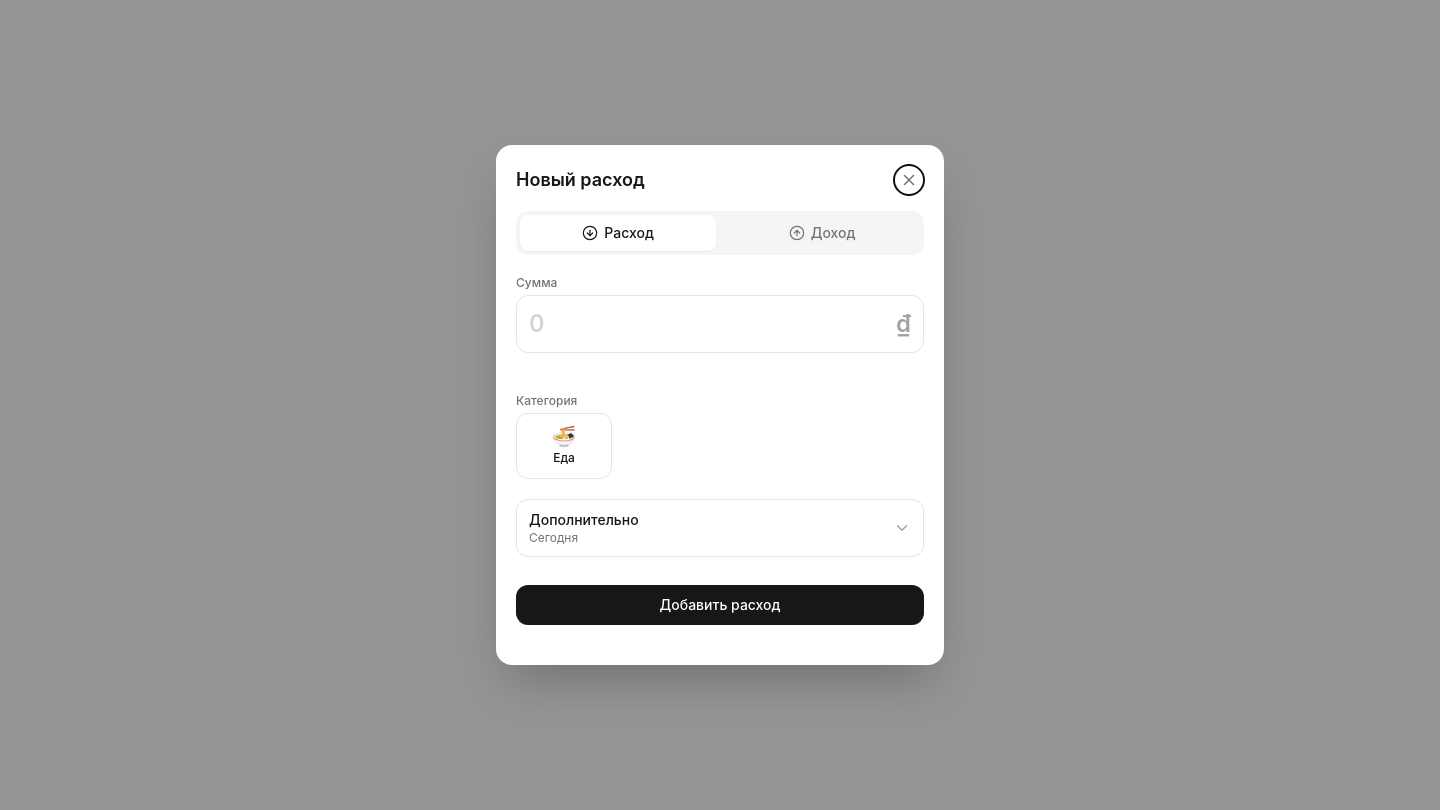
Test: TransactionFormSheet › keeps date, note and 'repeat monthly' under a collapsed 'Дополнительно' with a summary
Click the button "Дополнительно Сегодня" at (584, 520), box top-left (517, 500), bottom-right (923, 556)
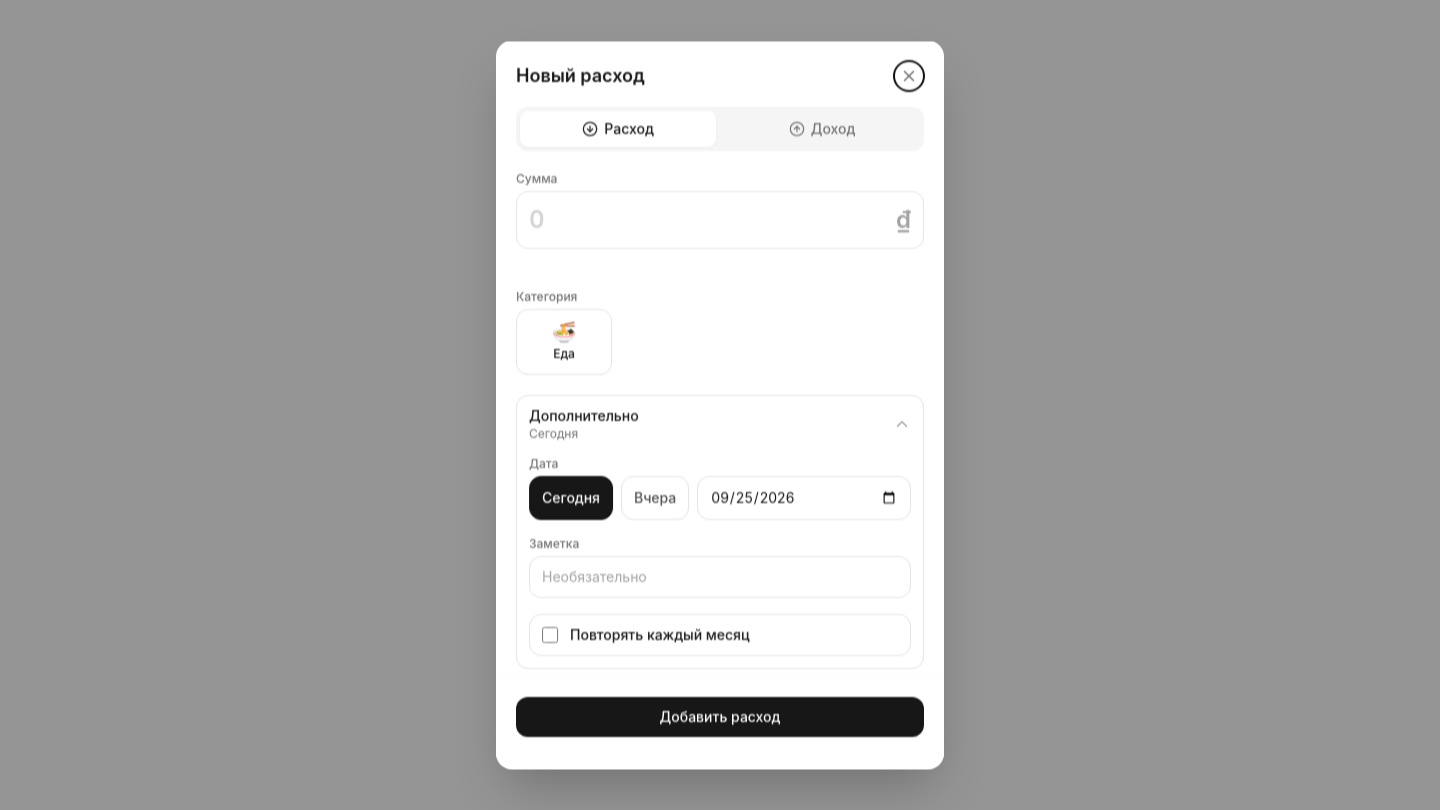
Check: the button "Дополнительно Сегодня" is expanded, box top-left (517, 396), bottom-right (923, 452)
Click the button "Вчера" at (655, 498), box top-left (621, 476), bottom-right (689, 520)
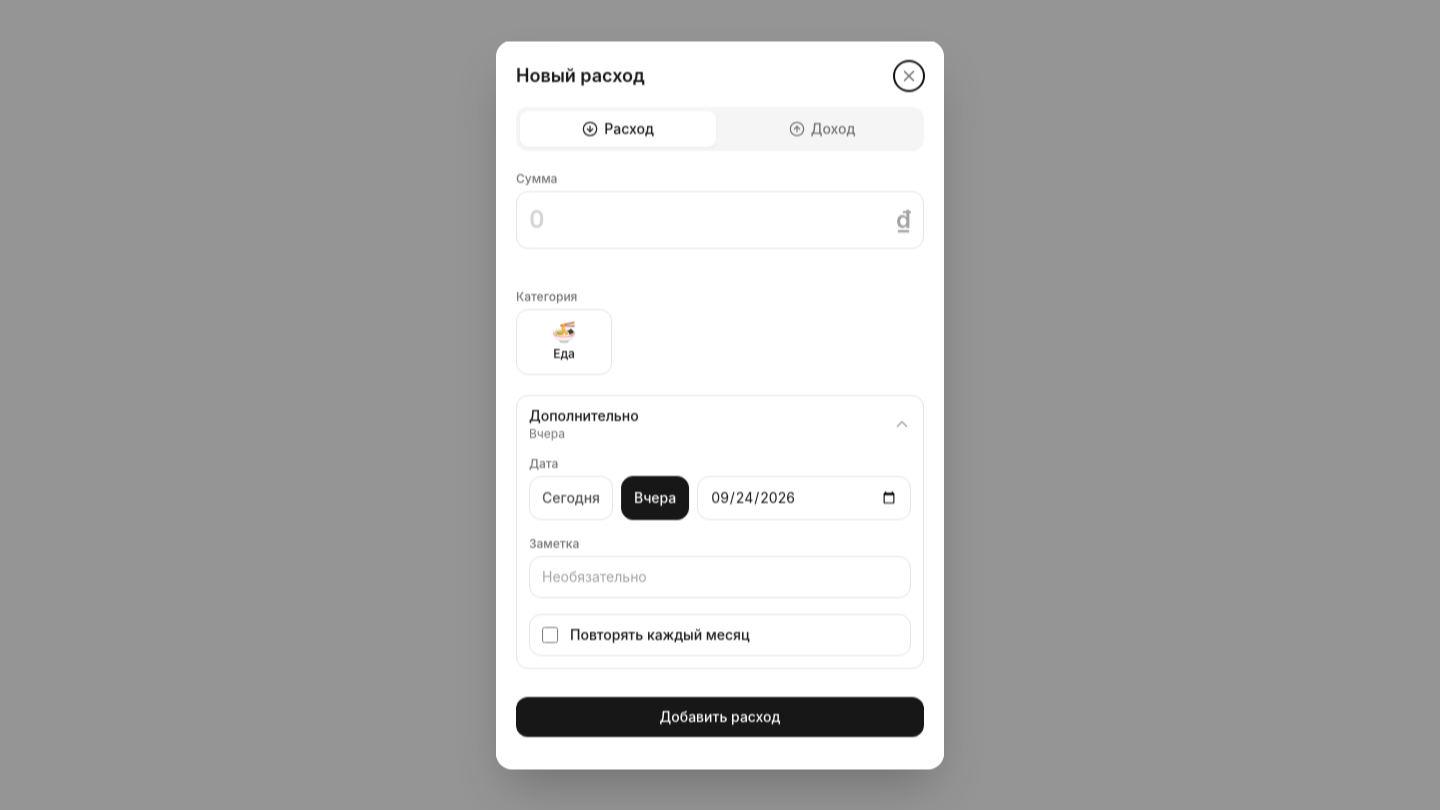
Click the checkbox labelled "Повторять каждый месяц" at (550, 634), box top-left (542, 626), bottom-right (558, 642)
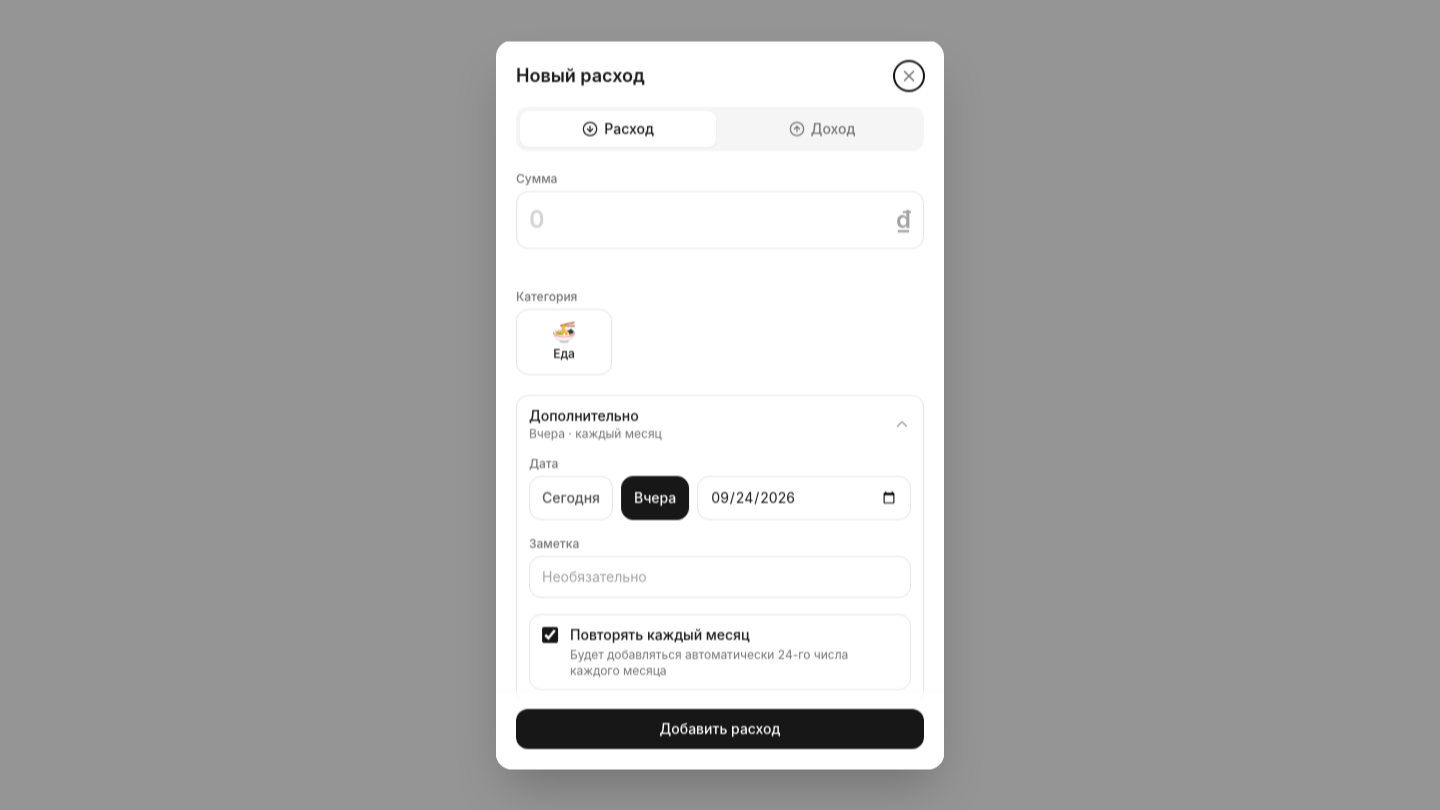
Check: the button "Дополнительно Вчера · каждый месяц" is shown, box top-left (517, 396), bottom-right (923, 452)
